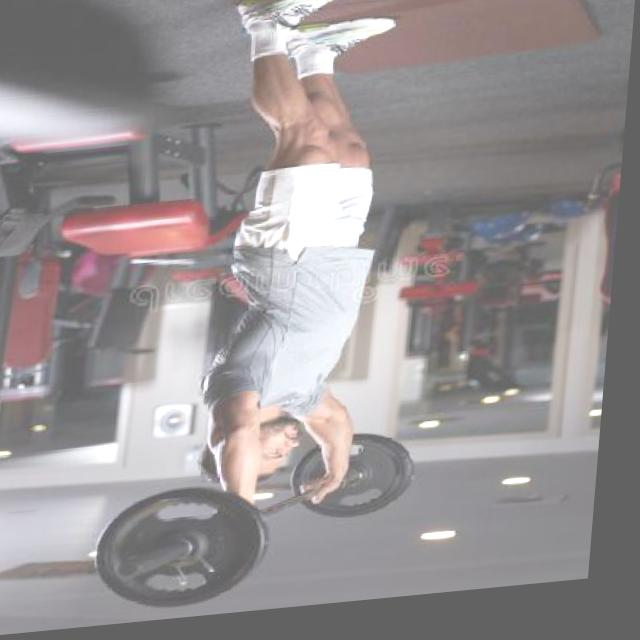barbell: (92, 480, 297, 627)
